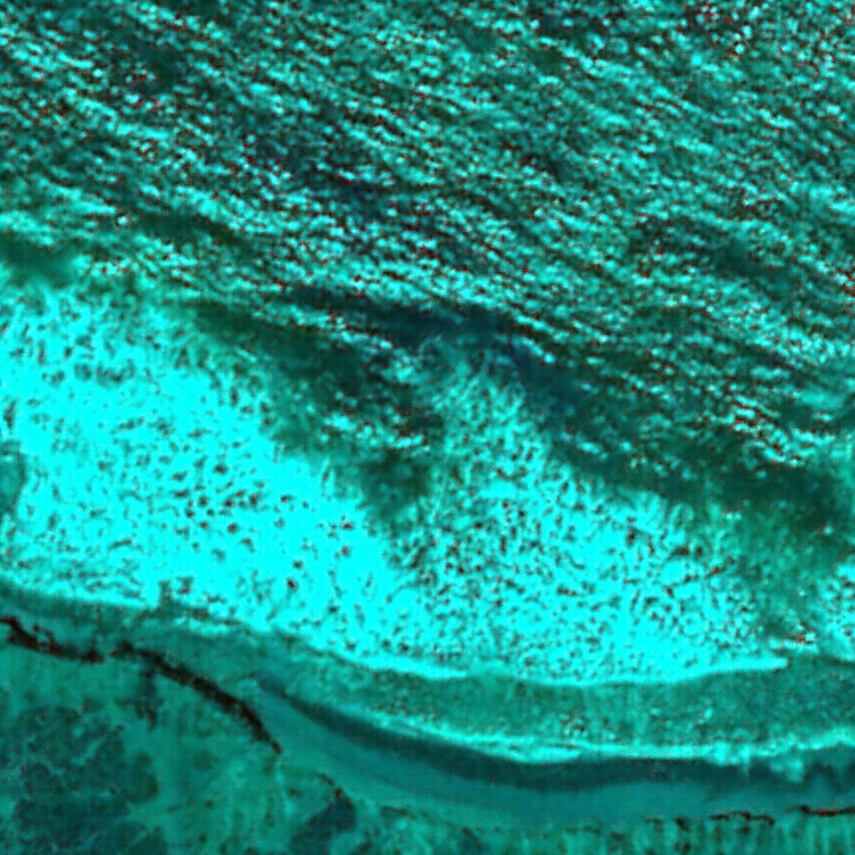rip_current: (162, 249, 522, 602)
